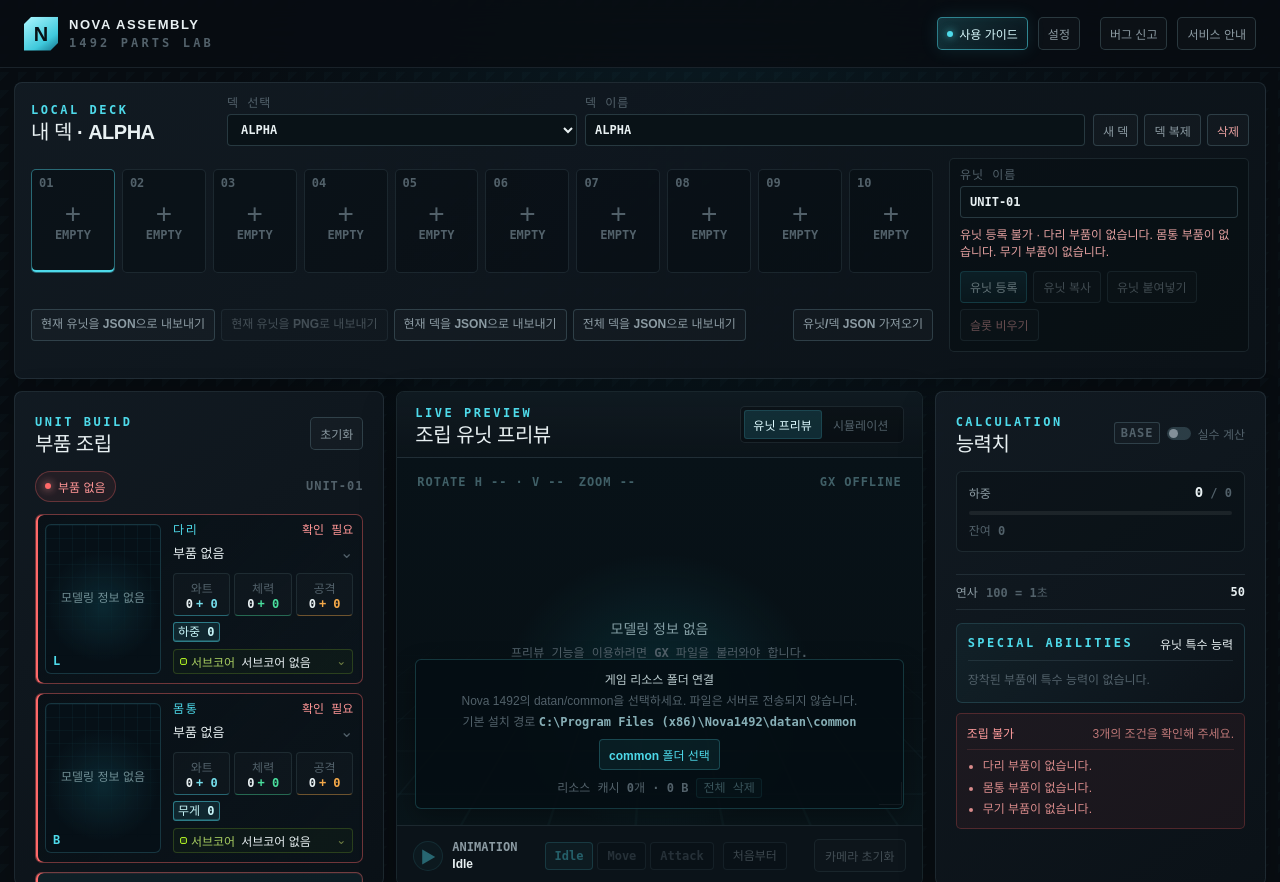
T09 부품 선택 및 강화 UI › 부품을 이름으로 검색하고 상세 확인 후 적용한다
Click the button with aria-label "다리 부품 변경".
click(263, 552)  # box [173,540,353,565]
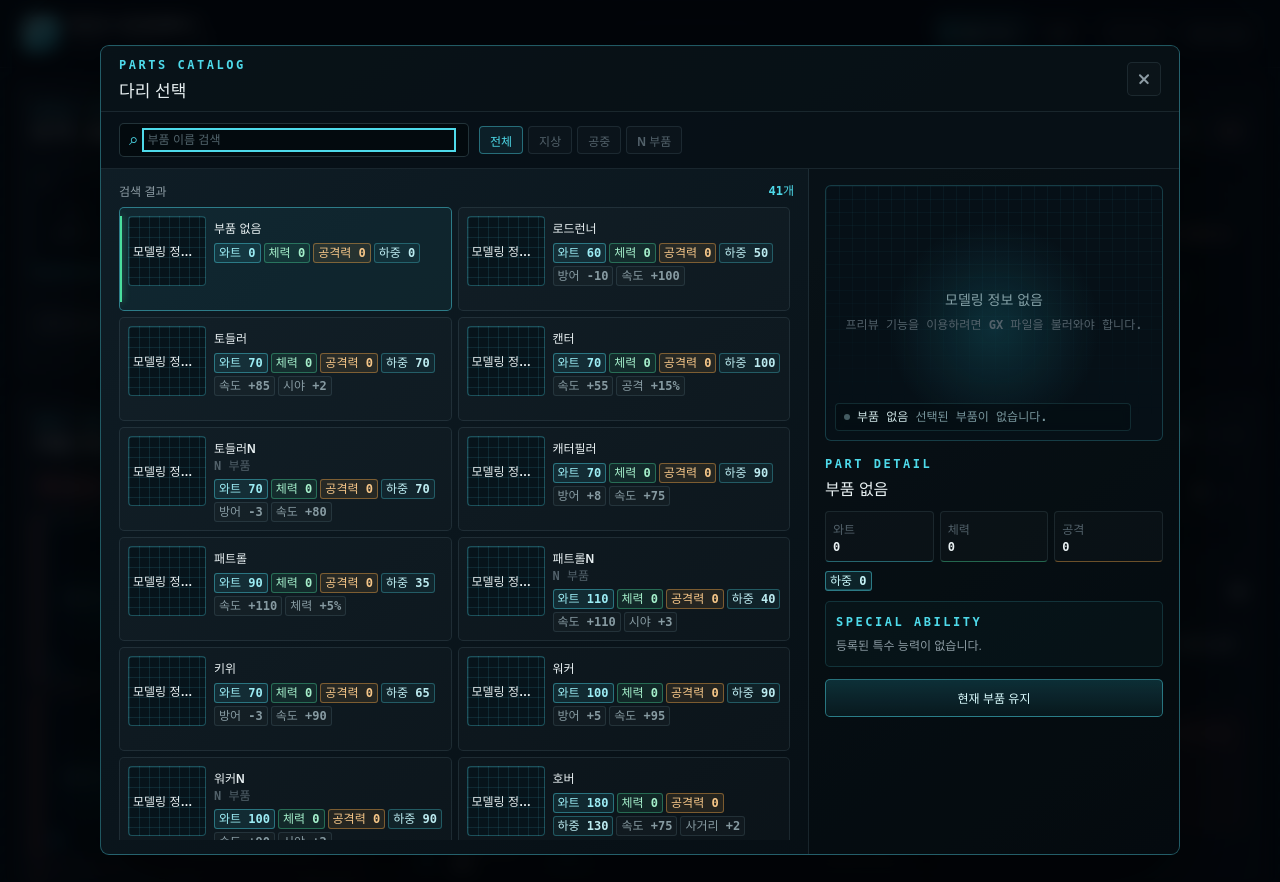
Type "로드런너" into the search field named "다리 부품 검색".
click(299, 140); type("로드런너")  # box [146,132,452,148]
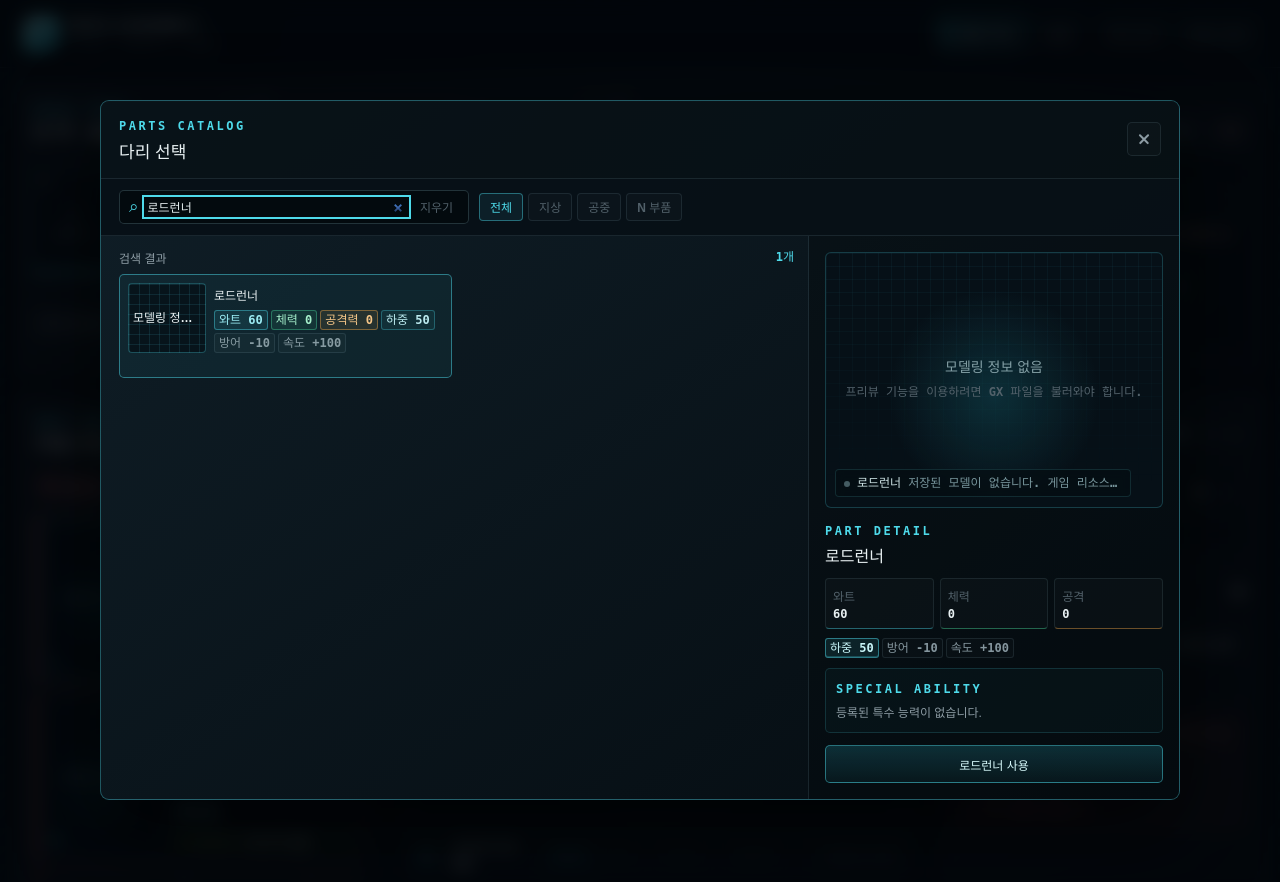
Expected: the element with class "catalog-result-thumbnail" is shown, [133,311,206,325]
Expected: the element with class "catalog-result-specs" shows "하중 50", [386,313,430,327]
Expected: the element with class "catalog-result-specs" shows "속도 +100", [283,336,341,350]
Click the button "로드런너".
click(285, 326)  # box [119,274,452,378]
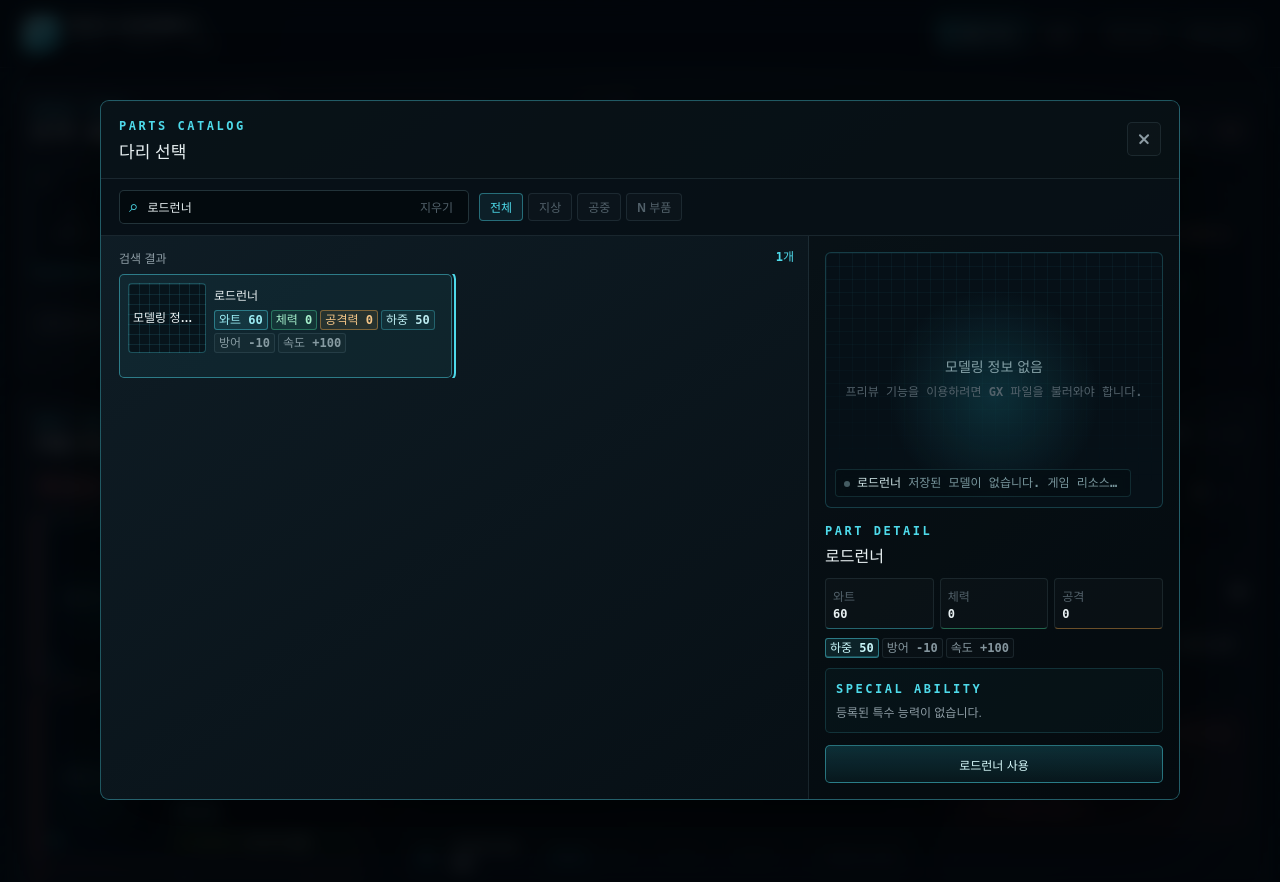
Expected: the heading "로드런너" is shown, [825,548,884,565]
Expected: the 1st element with class "standalone-viewer" is shown, [835,359,1142,498]
Click the button "로드런너 사용".
click(994, 764)  # box [825,745,1163,783]
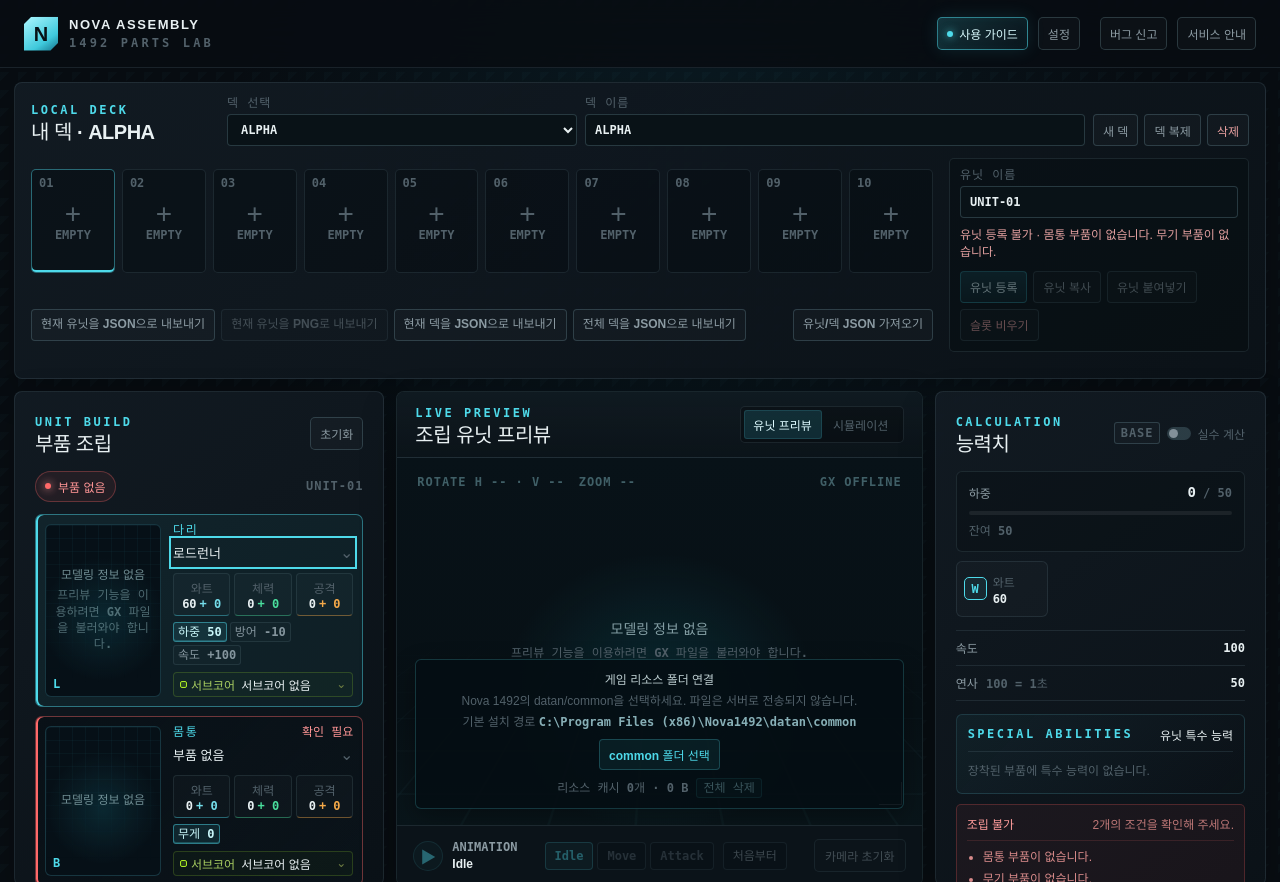
Expected: the heading "다리 선택" is gone
Expected: the button with aria-label "다리 부품 변경, 현재 로드런너" is shown, [173,540,353,565]
